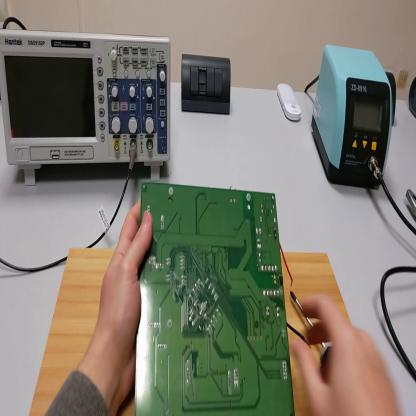hand: (290, 295, 399, 415), (98, 202, 151, 394)
low voltage board: (133, 185, 311, 415)
oscilloscope: (2, 30, 171, 185)
pliers: (406, 187, 416, 218)
screwdriver-: (292, 291, 333, 380)
socket: (383, 72, 396, 127), (409, 78, 416, 118)
welder station: (311, 44, 394, 192)
working area: (30, 248, 353, 414)
